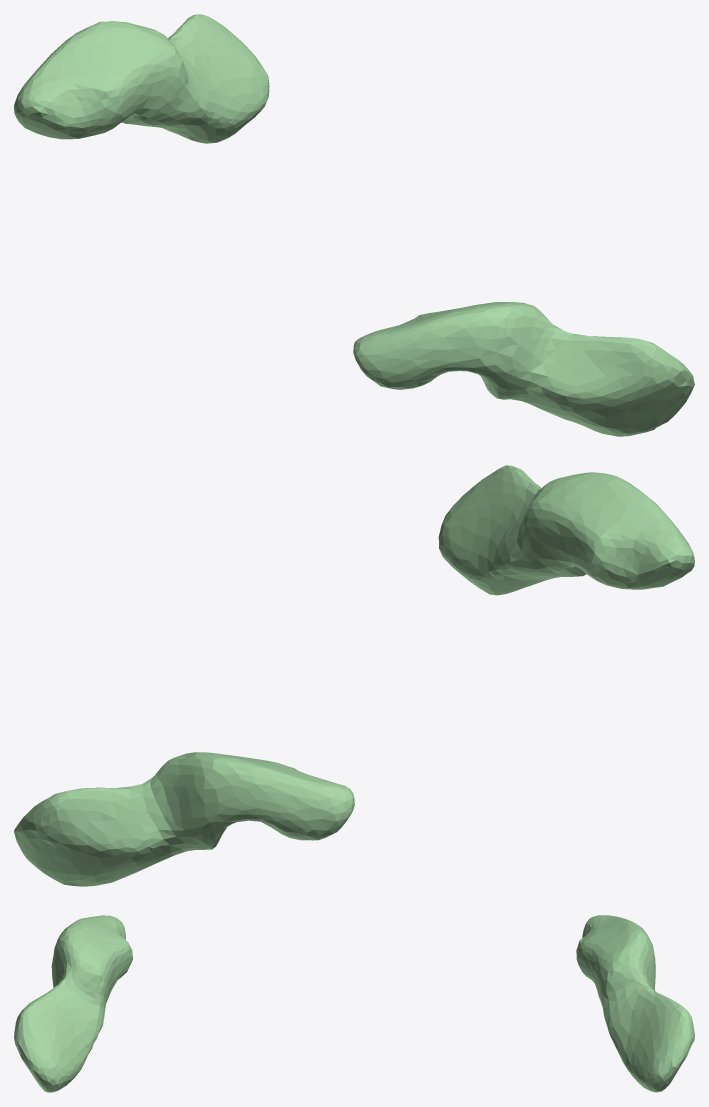
The picture shows the model from 3 angles, top to bottom: view 1: azimuth 30°, elevation 25°; view 2: azimuth 150°, elevation 25°; view 3: azimuth 270°, elevation 25°; orthographic projection. The views are drawn at different scales.
Visible parts, largest first — view 1: 319.obj; view 2: 319.obj; view 3: 319.obj.
Part boxes in pixels (x1,y1,x2,y2): 319.obj: [14, 14, 694, 436]; 319.obj: [14, 465, 694, 886]; 319.obj: [14, 915, 694, 1092].
Bounding box in the file's own units: 2495 × 1250 × 6886.
